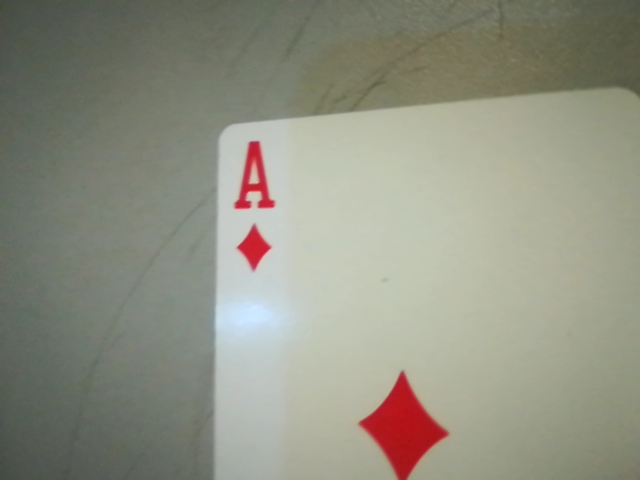fk a: (219, 130, 287, 281)
